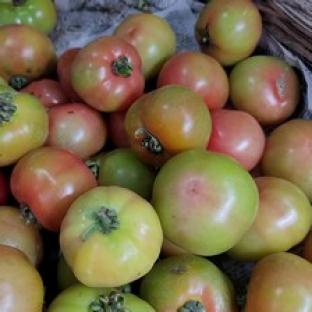Tomato: (151, 150, 259, 256), (60, 186, 162, 286), (10, 147, 97, 232), (126, 85, 211, 167), (229, 176, 311, 260), (140, 254, 238, 311), (72, 35, 144, 111), (229, 55, 300, 126), (113, 13, 176, 80), (158, 52, 229, 110), (261, 119, 311, 200), (0, 85, 48, 167), (244, 253, 311, 311), (0, 24, 57, 89), (208, 108, 266, 171), (45, 104, 107, 160), (95, 148, 155, 200), (48, 283, 155, 311), (0, 244, 44, 311), (0, 205, 43, 267), (0, 0, 57, 33), (56, 48, 83, 103), (21, 78, 69, 108), (56, 253, 79, 292), (106, 111, 129, 147), (161, 237, 190, 257), (0, 169, 11, 204), (303, 229, 311, 263)
